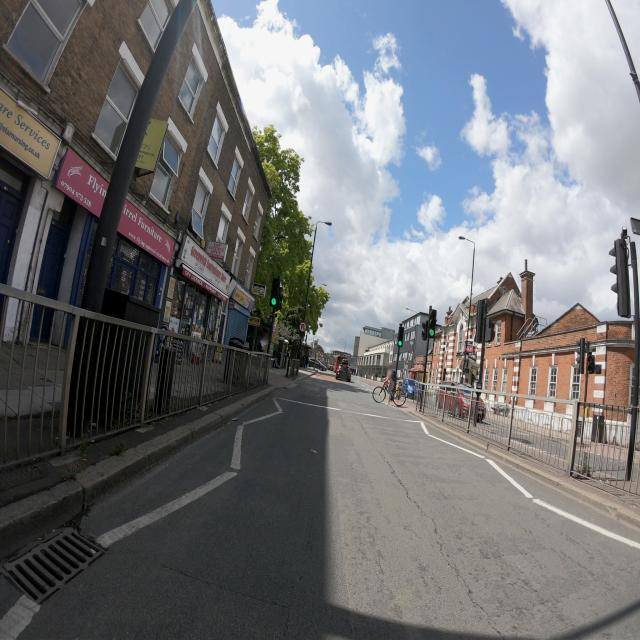bike: (370, 378, 407, 407)
car: (432, 379, 488, 422), (335, 363, 352, 382), (350, 363, 358, 375)
